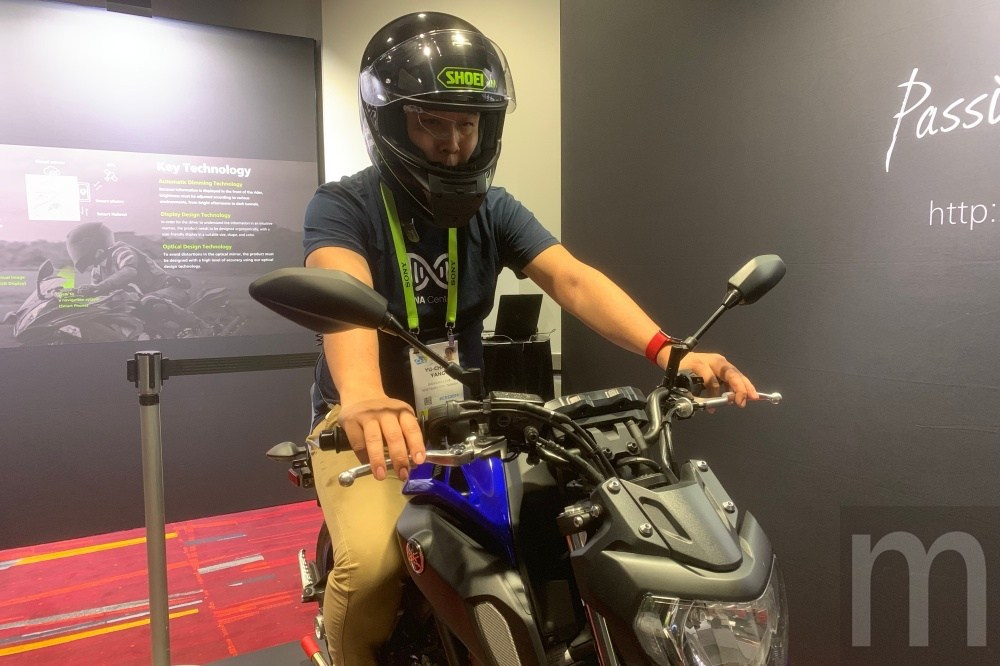helmet: (351, 18, 533, 210)
